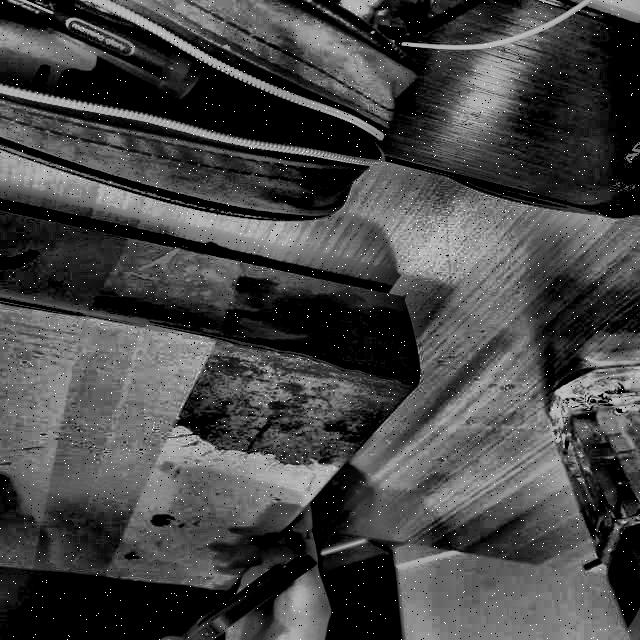box: (1, 206, 422, 595)
hole: (2, 3, 402, 155)
wet: (180, 278, 412, 468)
